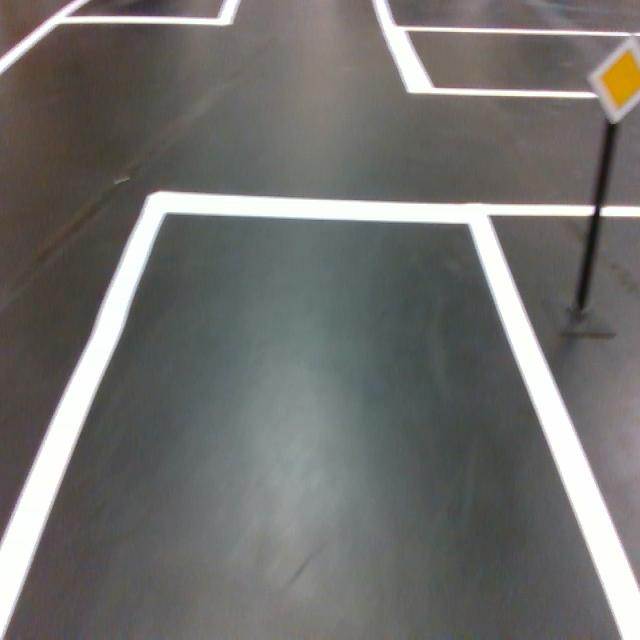priority-sign: (584, 32, 640, 128)
